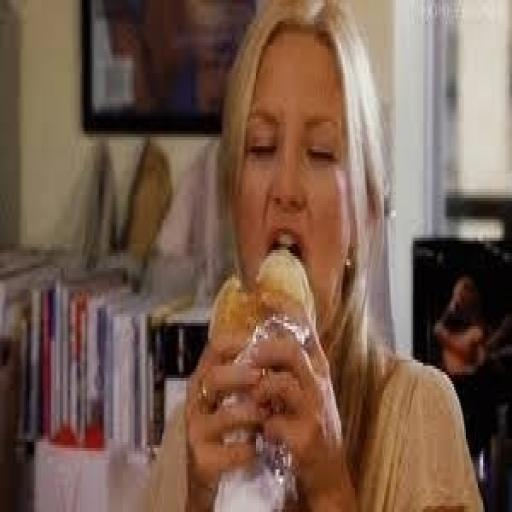drinking: (208, 0, 400, 509)
